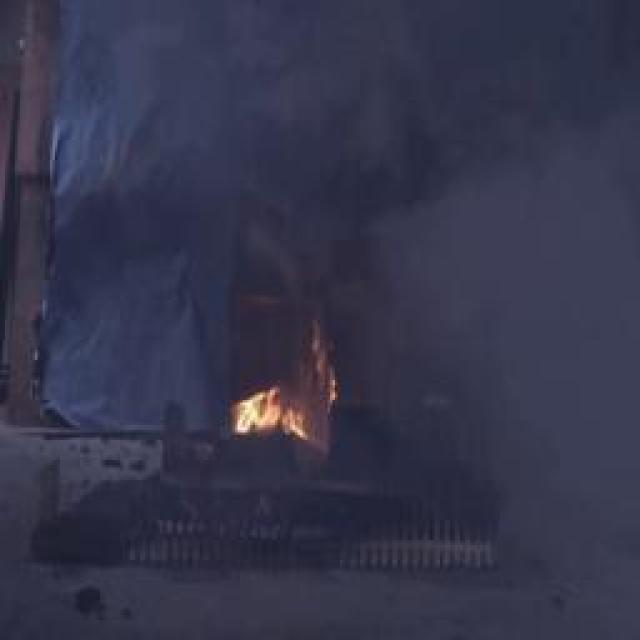Fire: (234, 390, 311, 438)
Smoke: (78, 0, 640, 278)
